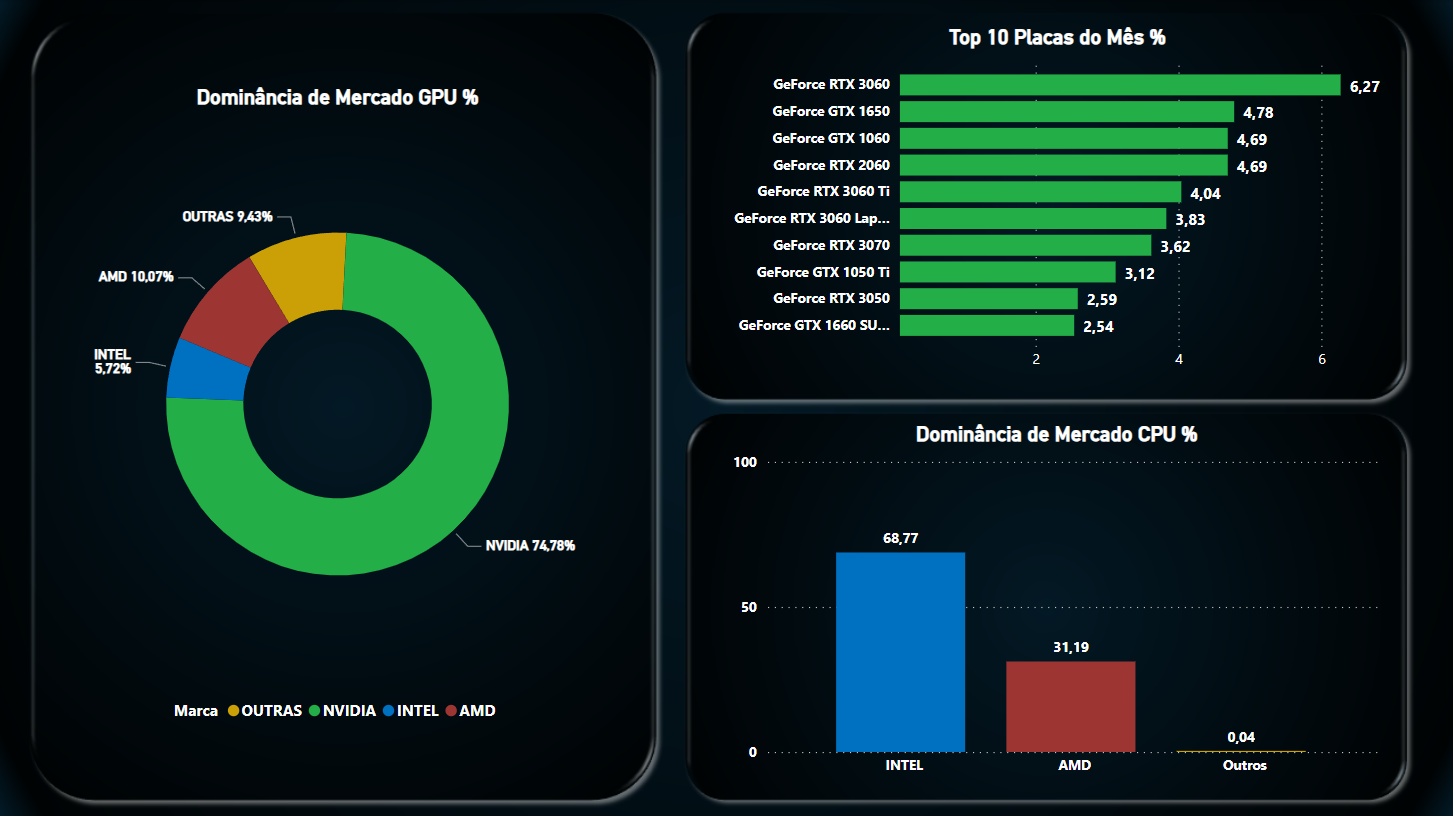

The page's visual inventory and layout, read from the dashboard file:
{"tool":"powerbi","page":{"name":"Página 1","canvas":[1280,720],"ordinal":0},"visuals":[{"type":"donutChart","title":"Dominância de Mercado GPU %","fields":{"Category":["Tb_Placas_De_Video_Resultado.Marca"],"Y":["Sum(Tb_Placas_De_Video_Resultado.OUTUBRO)"]},"box":[51.5,74.8,492.8,568.6],"z":0},{"type":"barChart","title":"Top 10 Placas do Mês %","fields":{"Category":["Tb_Placas_De_Video_Resultado.placa"],"Y":["Sum(Tb_Placas_De_Video_Resultado.OUTUBRO)"]},"box":[626,17.6,606.7,311.7],"z":1000},{"type":"columnChart","title":"Dominância de Mercado CPU %","fields":{"Category":["tb_processadores.MARCA"],"Y":["Sum(tb_processadores.OUTUBRO)"]},"box":[640.5,370.3,579.3,319.8],"z":2000}]}

Visuals, with their boxes in screenshot pixels (x1, y1, x2, y2), scaled from the page's 1280x720 canvas onto the 1453x816 screenshot:
"Dominância de Mercado GPU %" donutChart: l=58, t=85, r=618, b=729
"Top 10 Placas do Mês %" barChart: l=711, t=20, r=1399, b=373
"Dominância de Mercado CPU %" columnChart: l=727, t=420, r=1385, b=782
